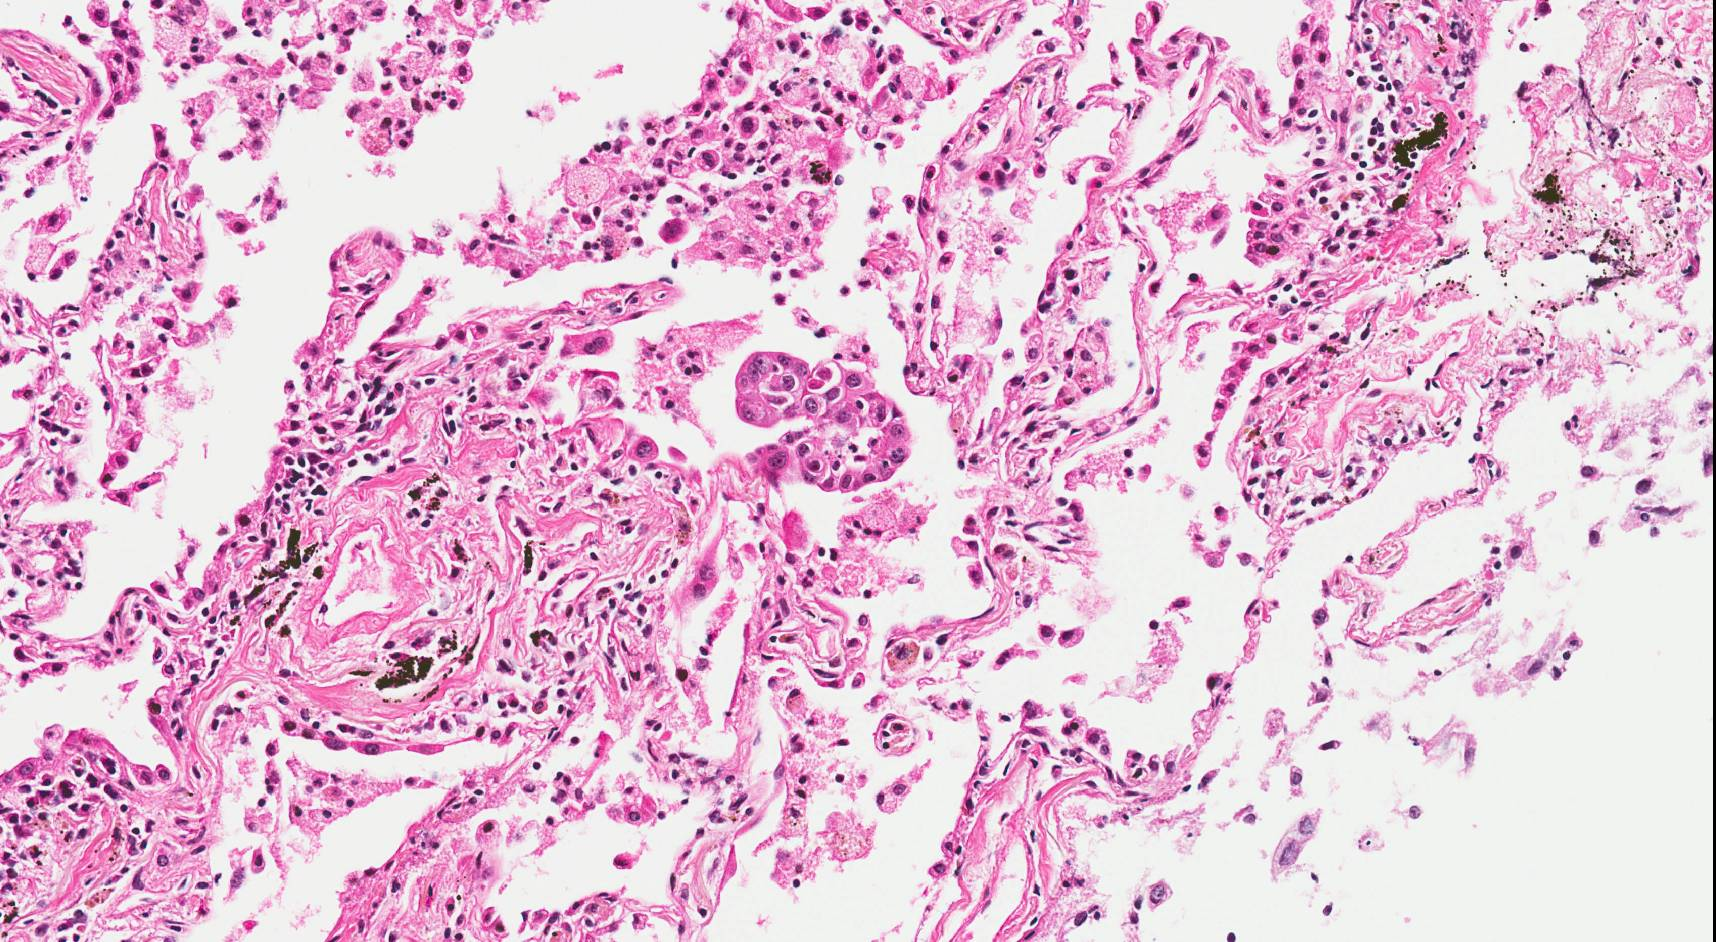stas: (730, 346, 918, 493)
